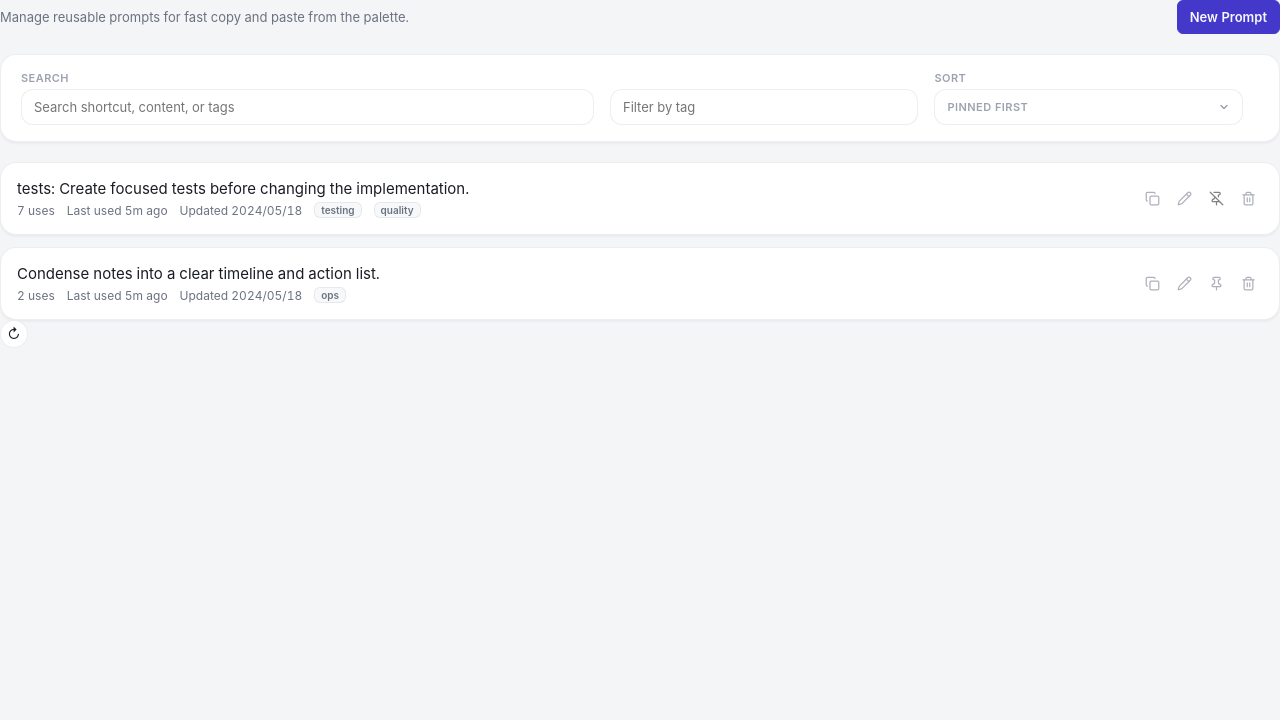
Scenario: PromptPalettePage › keeps dialog open and shows error when delete fails
The width and height of the screenshot is (1280, 720).
Check: the heading "tests: Create focused tests" is shown, box [17, 179, 469, 198]
Click the button named "Delete" in the row of "quality". click: coordinates (1248, 198)
box: [1233, 184, 1263, 214]
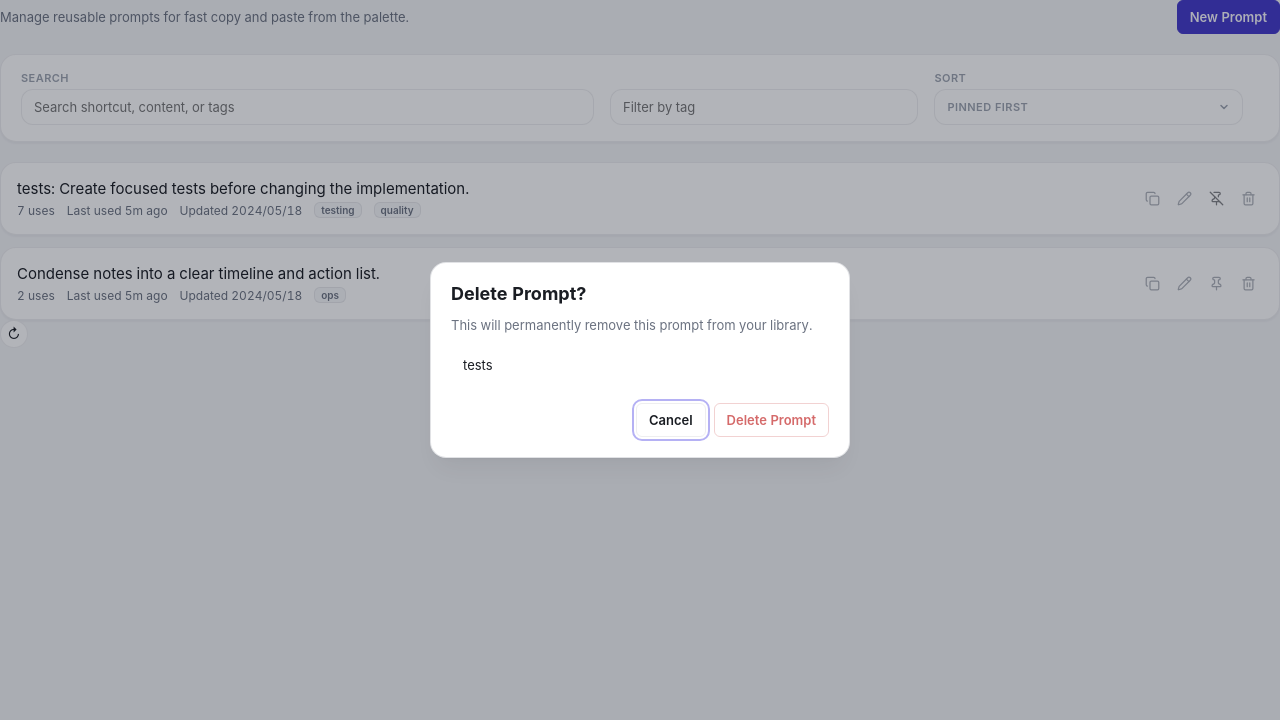
Click the button "Delete Prompt". click: coordinates (771, 420)
box: [714, 403, 829, 437]
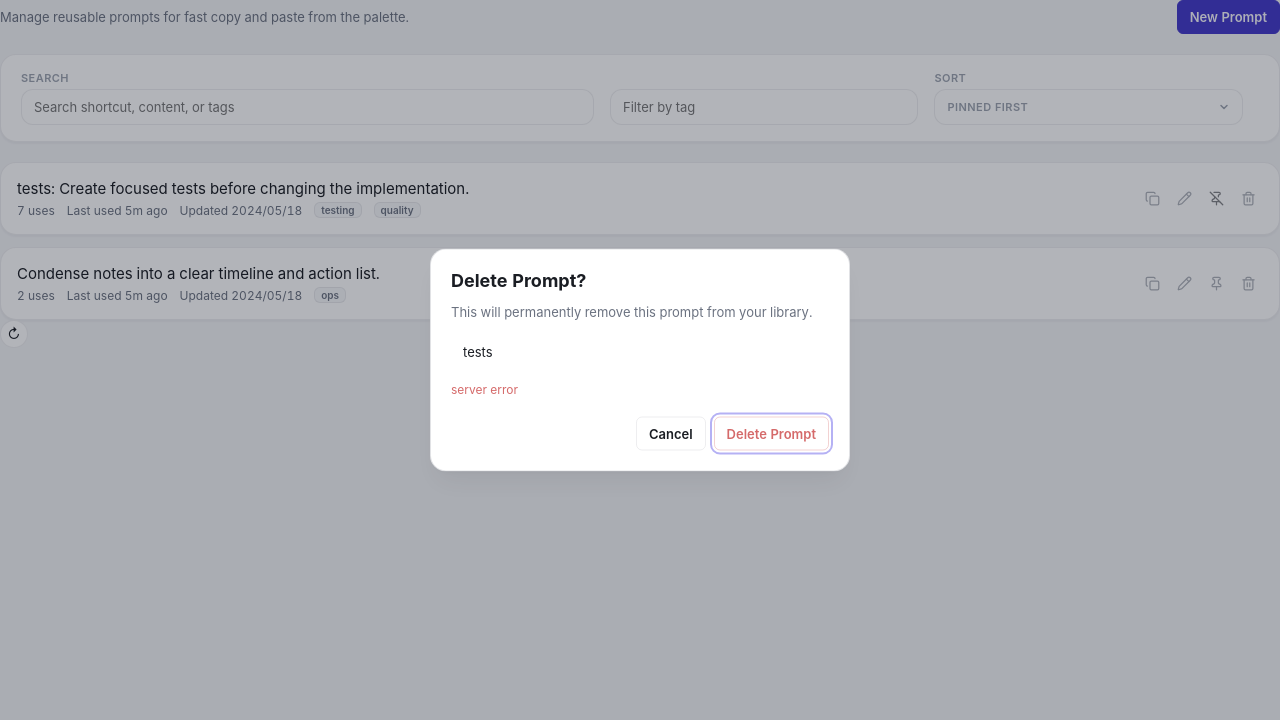
Check: the heading "Delete Prompt?" is shown, box [451, 270, 586, 290]
Check: the text "server error" is shown, box [451, 382, 518, 396]
